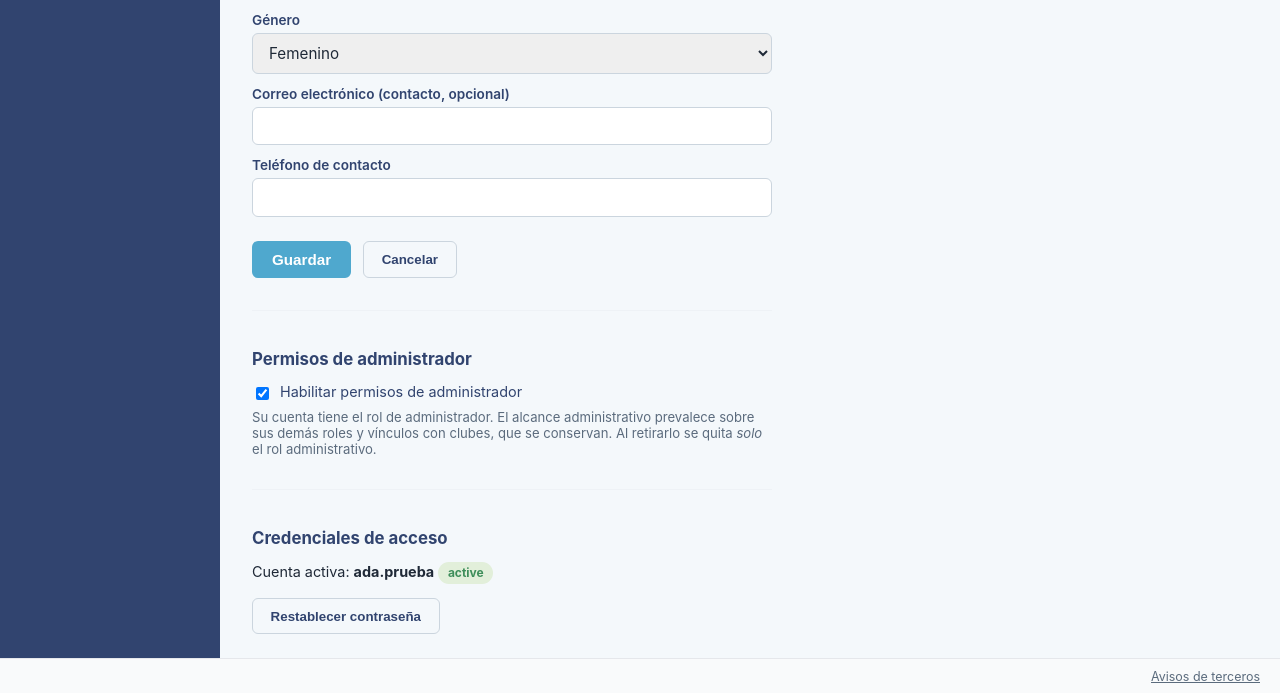
Test: retirar › sobre OTRA persona no cierra la sesión propia
The width and height of the screenshot is (1280, 693).
(page scrolled)
Click the checkbox labelled "Habilitar permisos de administrador" at (262,393), box [256,386,269,400]
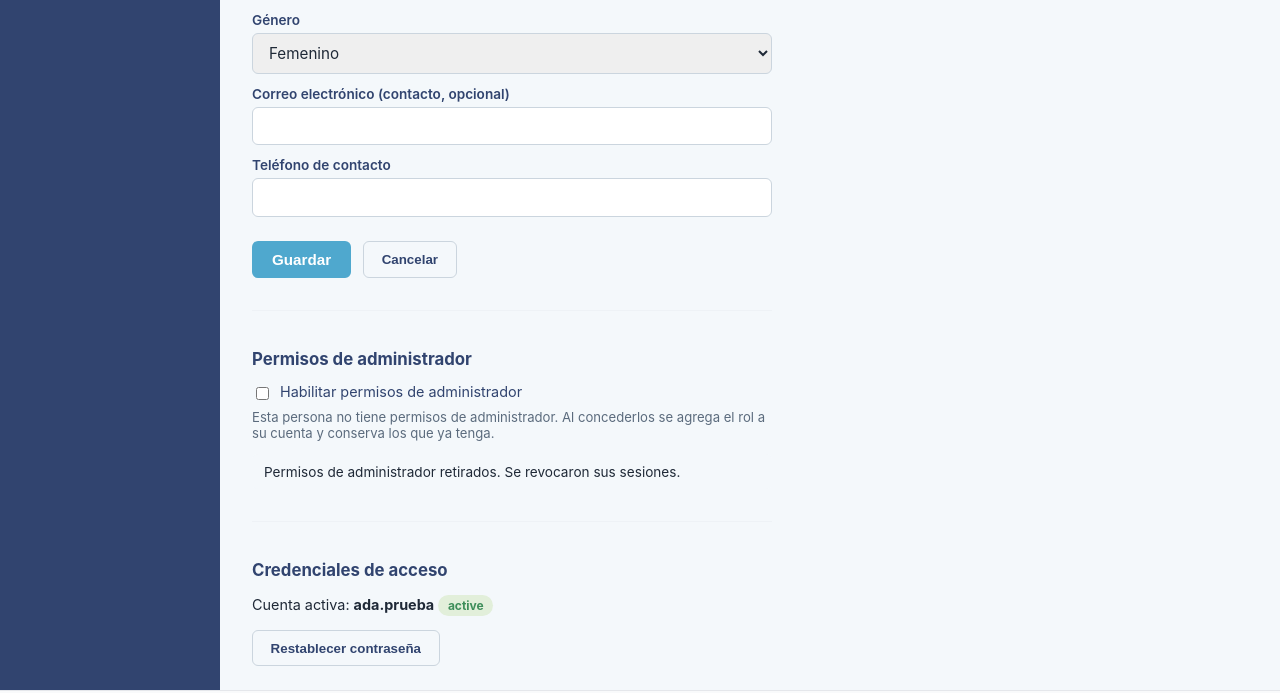
expect the text "Se revocaron sus sesiones" is shown: met, box [264,464,680,480]
